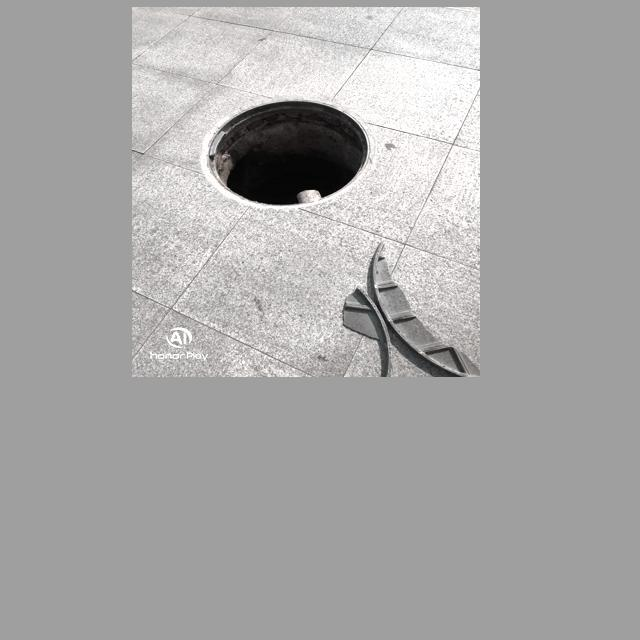lose: (200, 92, 386, 216)
